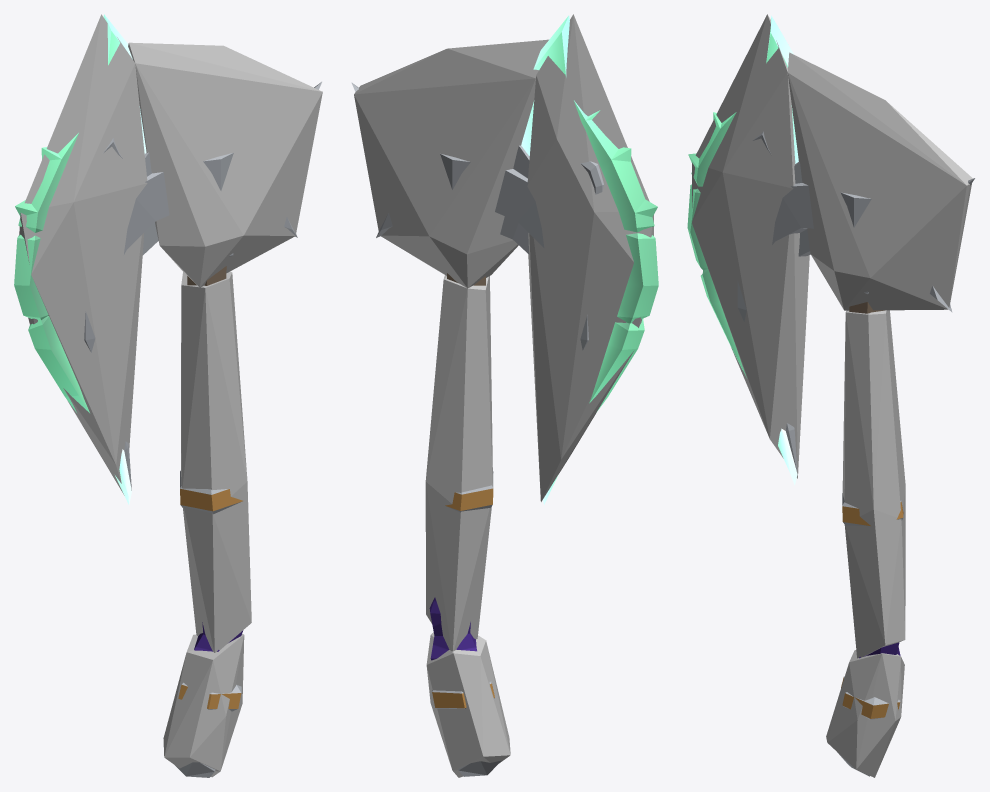
Rendered from SM_Wep_Axe_07.fbx.
3 views of the same model, side by side, from view 1: azimuth 30°, elevation 25°; view 2: azimuth 150°, elevation 25°; view 3: azimuth 330°, elevation 25° (orthographic). The views are drawn at different scales.
Visible parts, largest first — view 1: SM_Wep_Axe_07_ConvexHulls, SM_Wep_Axe_07; view 2: SM_Wep_Axe_07_ConvexHulls, SM_Wep_Axe_07; view 3: SM_Wep_Axe_07_ConvexHulls, SM_Wep_Axe_07.
Boxes of the visible parts, x1,y1,x2,y2 form: SM_Wep_Axe_07_ConvexHulls: (19, 14, 322, 777); SM_Wep_Axe_07: (14, 14, 321, 777); SM_Wep_Axe_07_ConvexHulls: (354, 14, 653, 777); SM_Wep_Axe_07: (351, 15, 658, 776); SM_Wep_Axe_07_ConvexHulls: (692, 14, 972, 777); SM_Wep_Axe_07: (687, 15, 974, 776).
Bounding box in the file's own units: 41.39 × 7.98 × 102.
2 materials, 1 textured.
